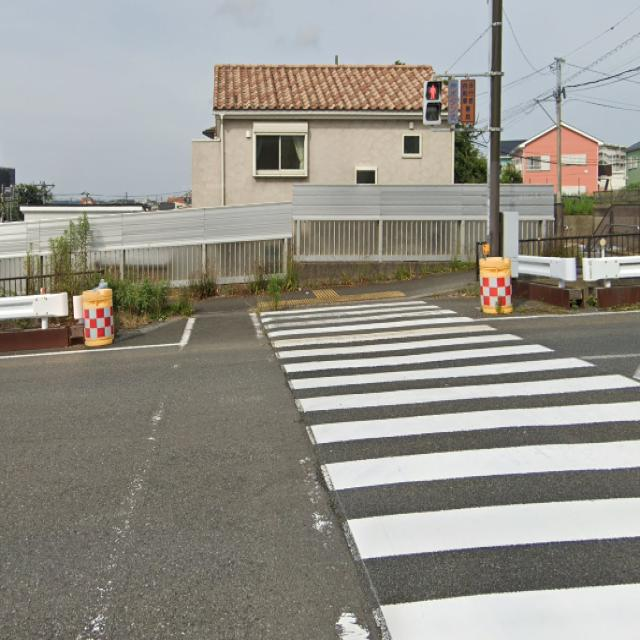traffic-light: (423, 76, 442, 128)
